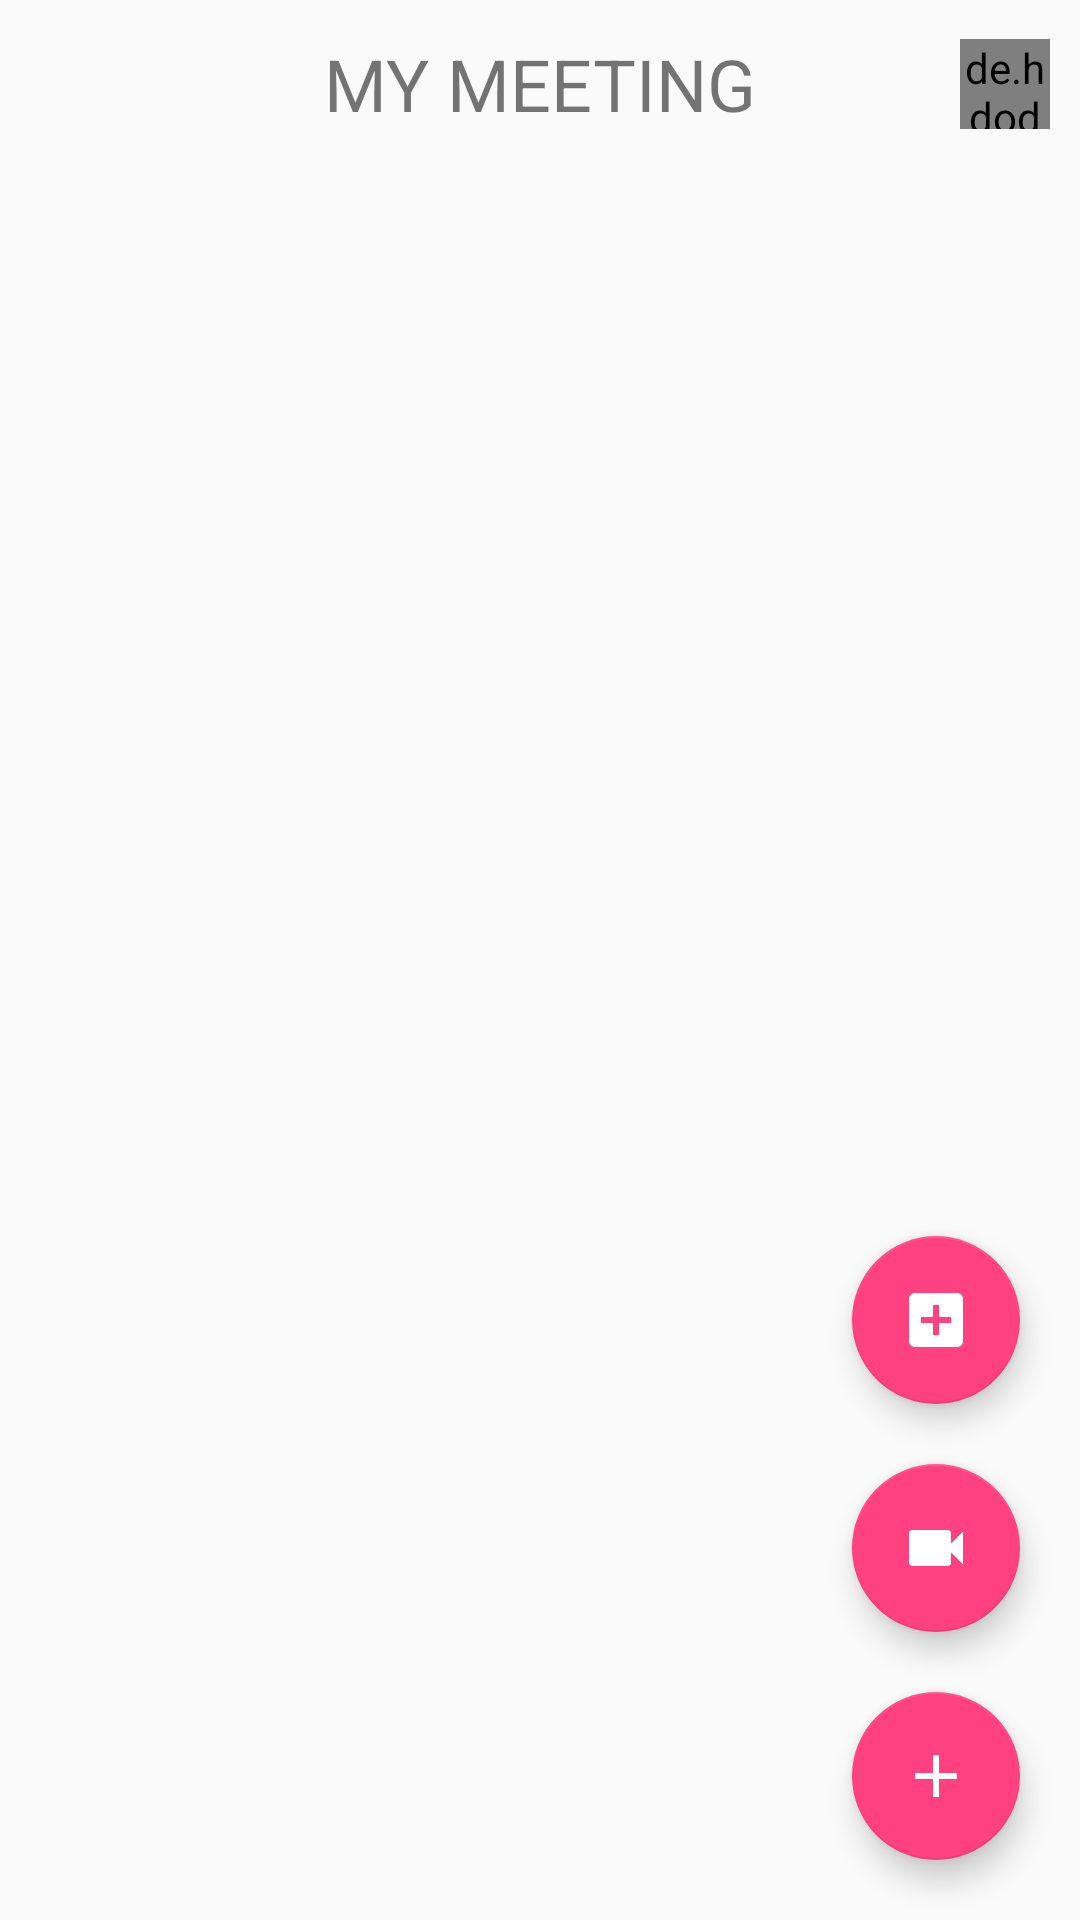

Icon bounding boxes for this 1080px×1920px phone screenshot, format Rect(x1, y1, x2, y2):
add: Rect(852, 1692, 1020, 1860)
add box: Rect(852, 1236, 1020, 1404)
videocam: Rect(852, 1464, 1020, 1632)
